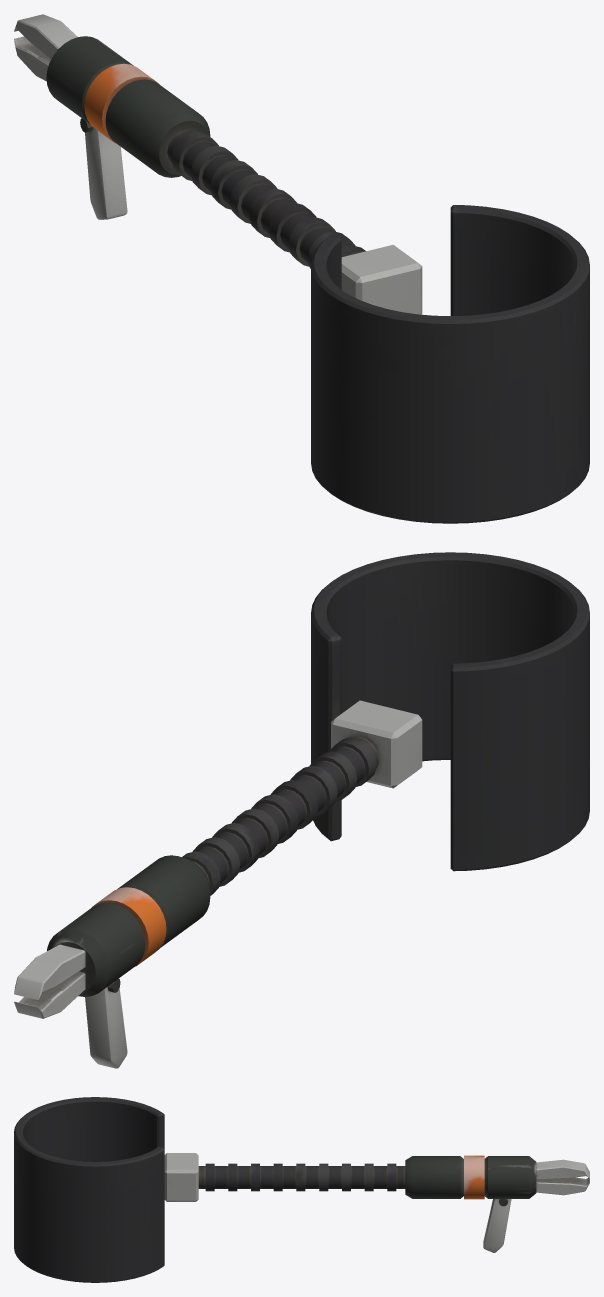
File: soltador_pulso.glb
3 renders of one model, top to bottom at view 1: azimuth 30°, elevation 25°; view 2: azimuth 150°, elevation 25°; view 3: azimuth 270°, elevation 25°, orthographic. The views are drawn at different scales.
Parts seen in each view (by area): view 1: soltador_pulso_soltador; view 2: soltador_pulso_soltador; view 3: soltador_pulso_soltador.
Boxes of the visible parts, box(x1,y1,x2,y2) form: soltador_pulso_soltador: box(14, 14, 589, 523); soltador_pulso_soltador: box(14, 552, 589, 1068); soltador_pulso_soltador: box(14, 1097, 589, 1282).
Size of the model in its own units: 0.0472 by 0.0384 by 0.1672.
1 material, 1 textured.
